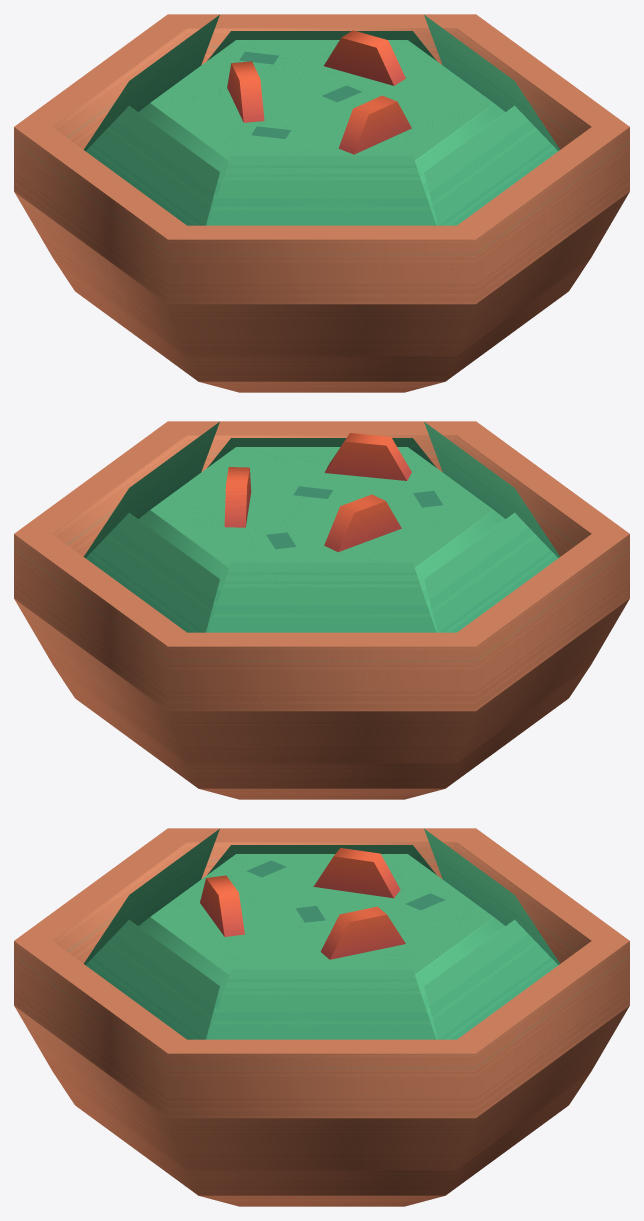
File: salad.glb
3 renders of one model, top to bottom at view 1: azimuth 30°, elevation 25°; view 2: azimuth 150°, elevation 25°; view 3: azimuth 270°, elevation 25°, orthographic.
Parts seen in each view (by area): view 1: salad; view 2: salad; view 3: salad.
Part boxes in pixels (x1,y1,x2,y2): salad: [14, 14, 629, 392]; salad: [14, 421, 629, 799]; salad: [14, 828, 629, 1206].
Size of the model in its own units: 0.5022 by 0.2734 by 0.5798.
1 material, 1 textured.
